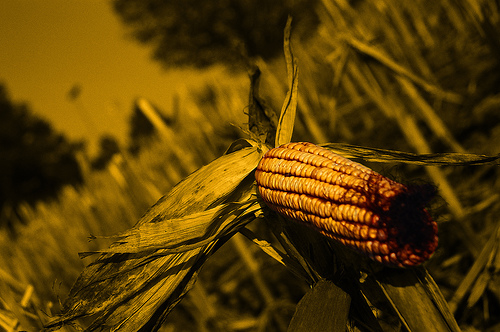corn: (256, 141, 438, 279)
